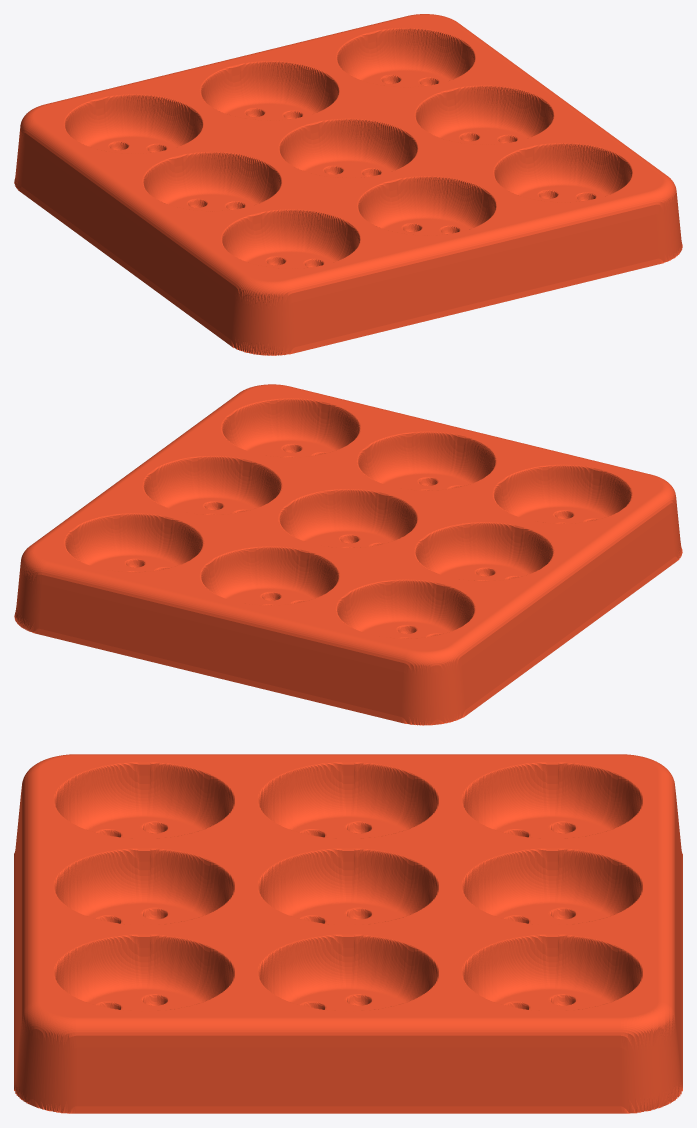
File: mold.glb
3 views of the same model, one above another, from view 1: azimuth 30°, elevation 25°; view 2: azimuth 150°, elevation 25°; view 3: azimuth 270°, elevation 25° (orthographic). The views are drawn at different scales.
Visible parts, largest first — view 1: geometry_0; view 2: geometry_0; view 3: geometry_0.
Part boxes in pixels (left/top/right/bottom): geometry_0: left=14, top=14, right=682, bottom=355; geometry_0: left=14, top=384, right=682, bottom=725; geometry_0: left=14, top=754, right=682, bottom=1113.
Size of the model in its own units: 0.0964 by 0.0136 by 0.0964.
